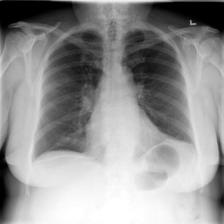normal: (29, 24, 199, 166)
